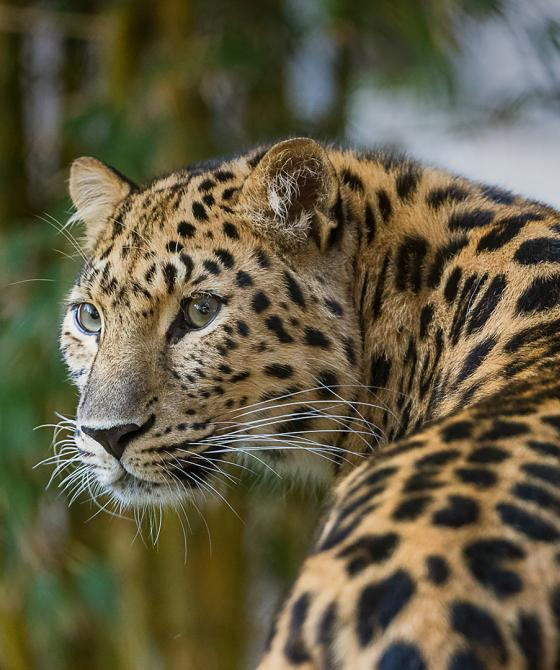amur_leopard: (17, 129, 331, 520)
